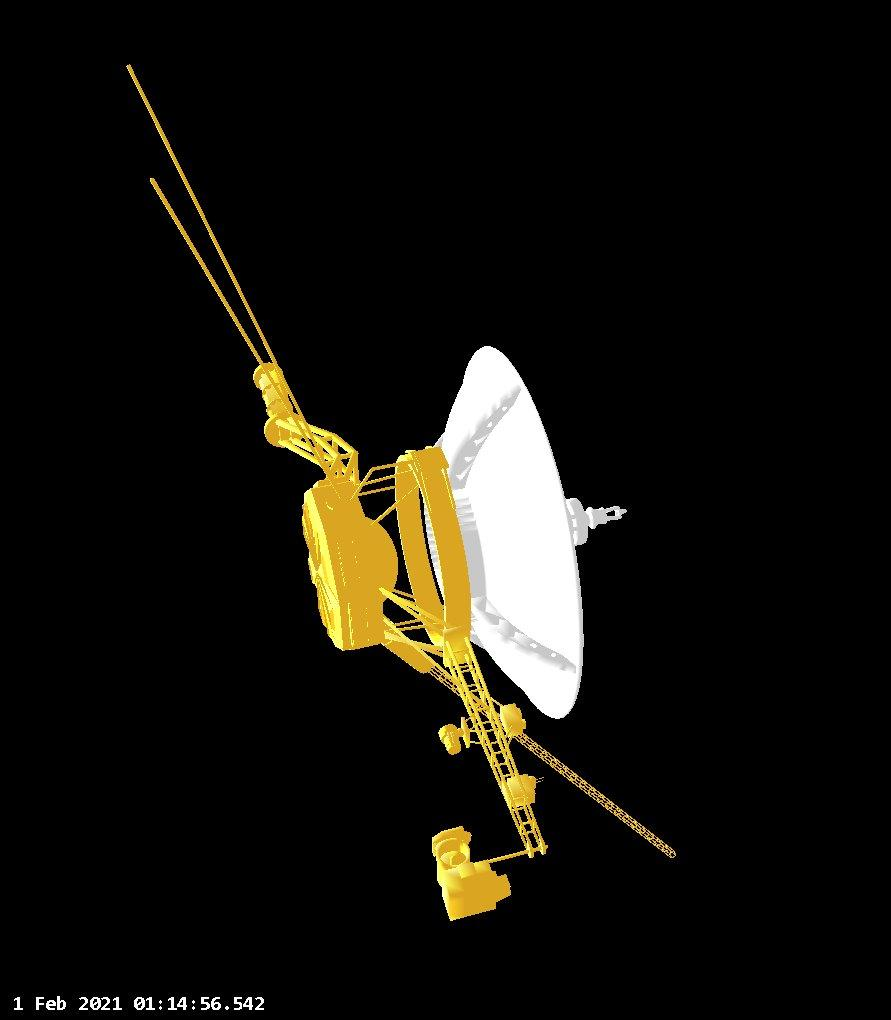antenna: (120, 59, 348, 501), (422, 344, 629, 723), (379, 627, 679, 862), (145, 174, 346, 500)
body: (302, 474, 402, 656)
